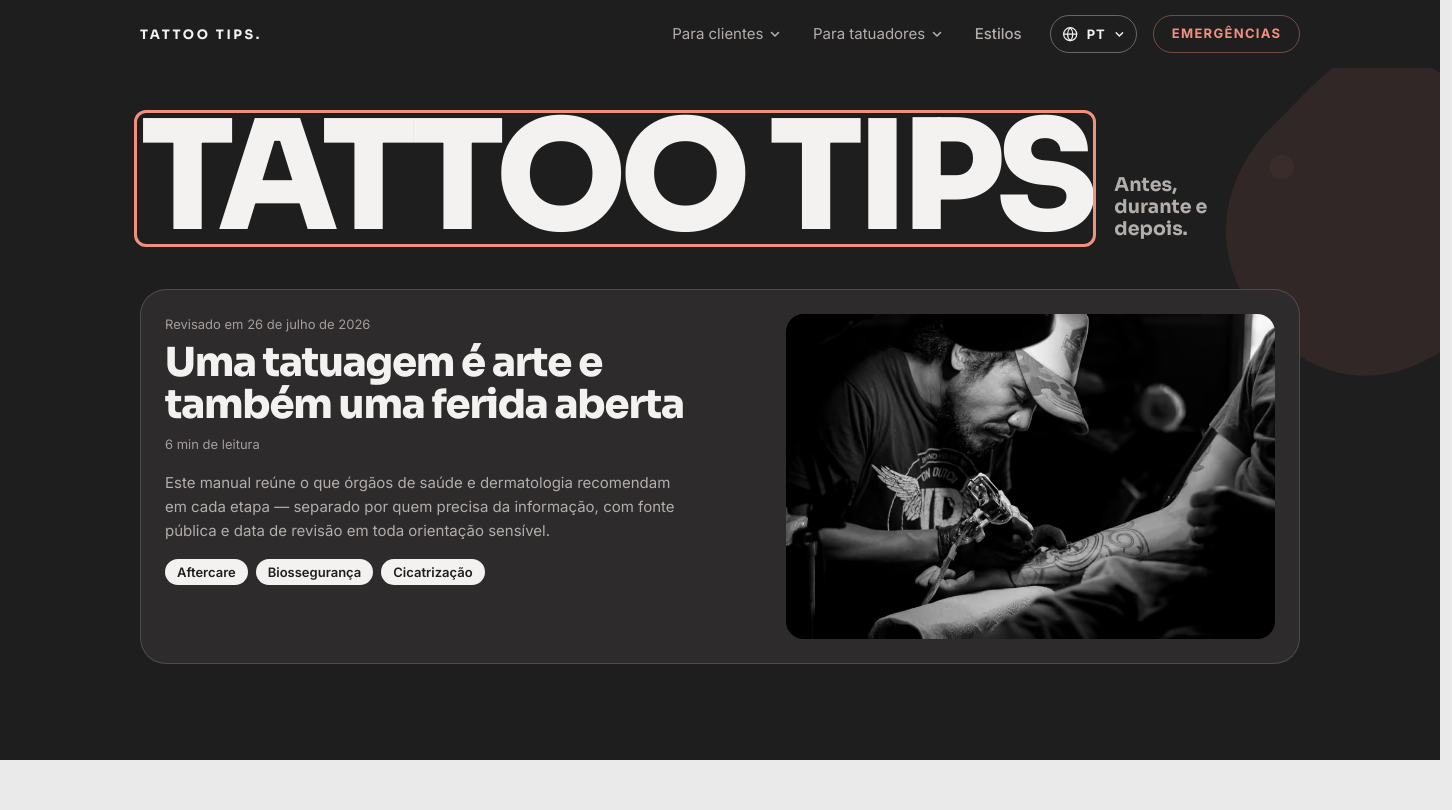
navegação › agrupa a navegação do desktop em menus por público
Click the button "Para clientes". click: (727, 34)
box: [660, 14, 793, 54]
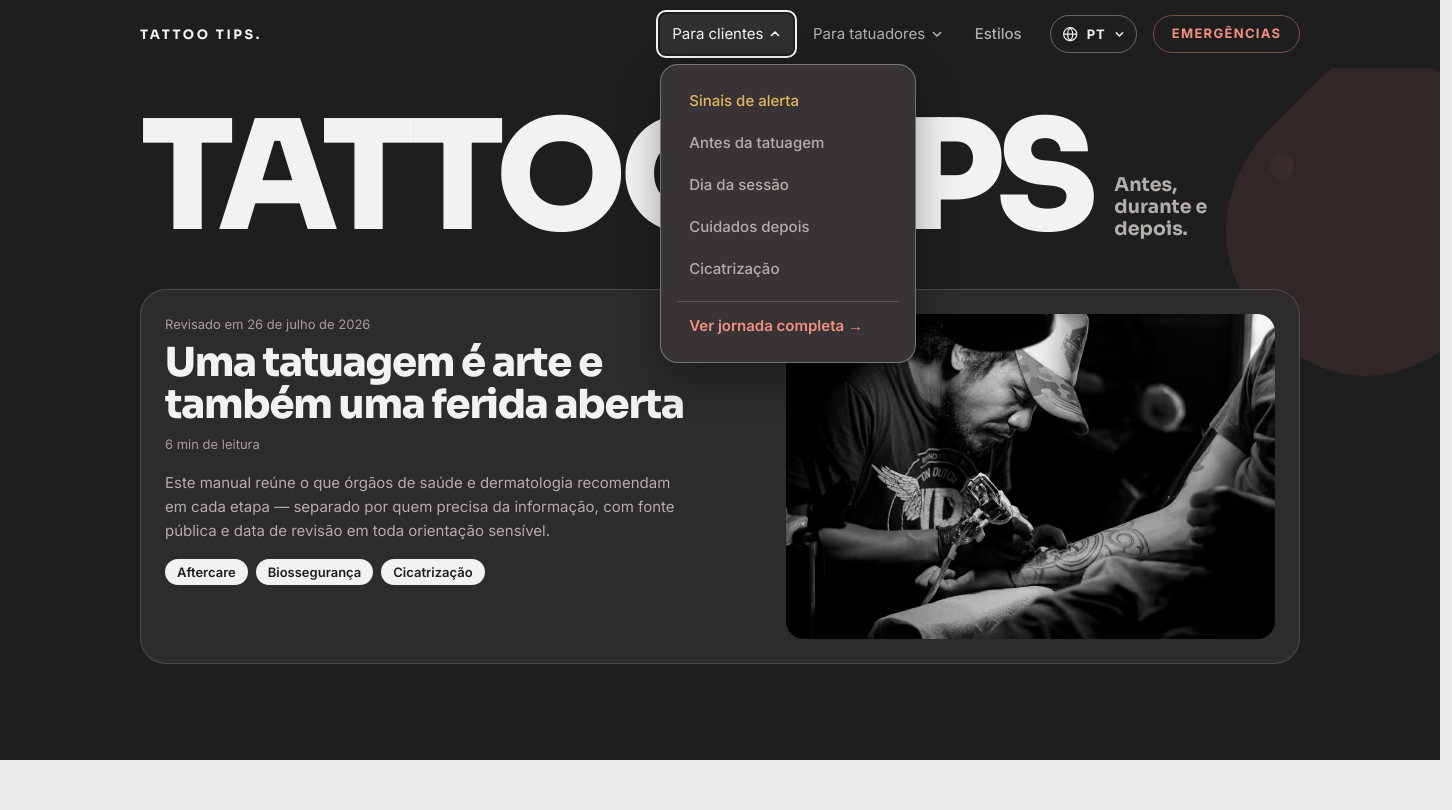
Check: the button "Para clientes" is expanded, box [660, 14, 793, 54]
Press Escape
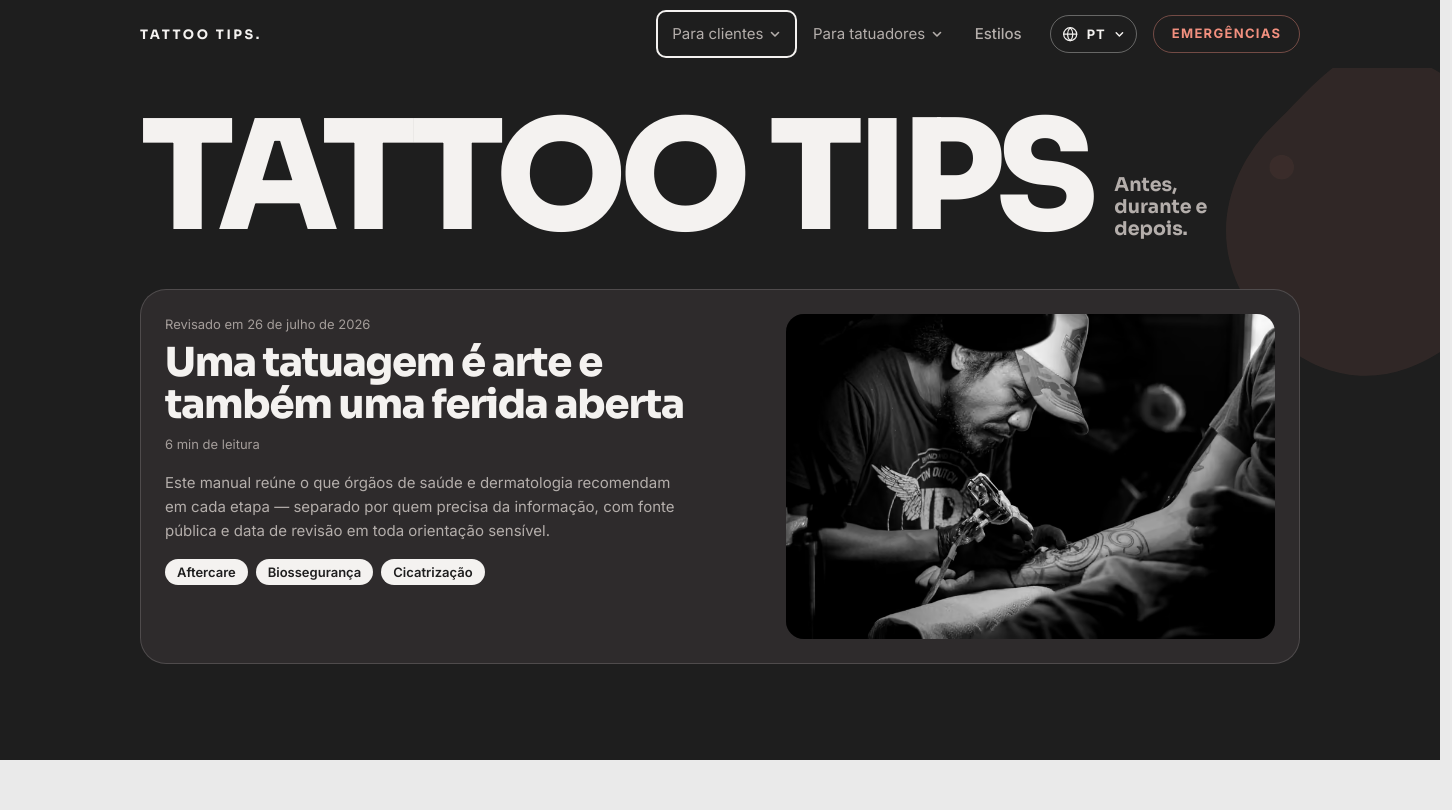
Check: the button "Para clientes" is collapsed, box [660, 14, 793, 54]
